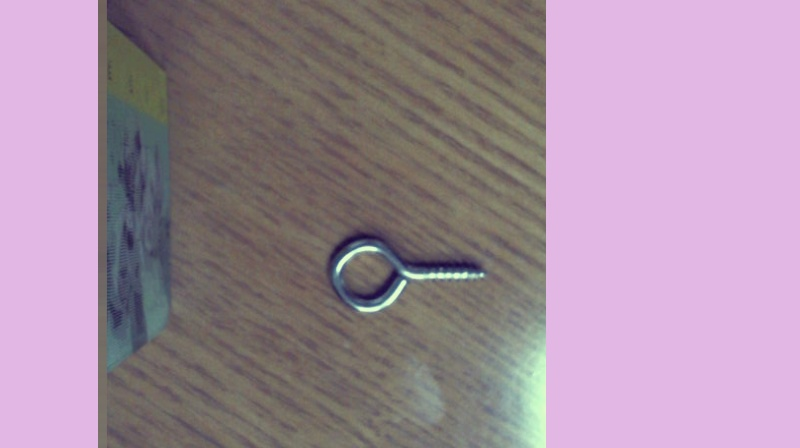O001: (320, 229, 487, 319)
